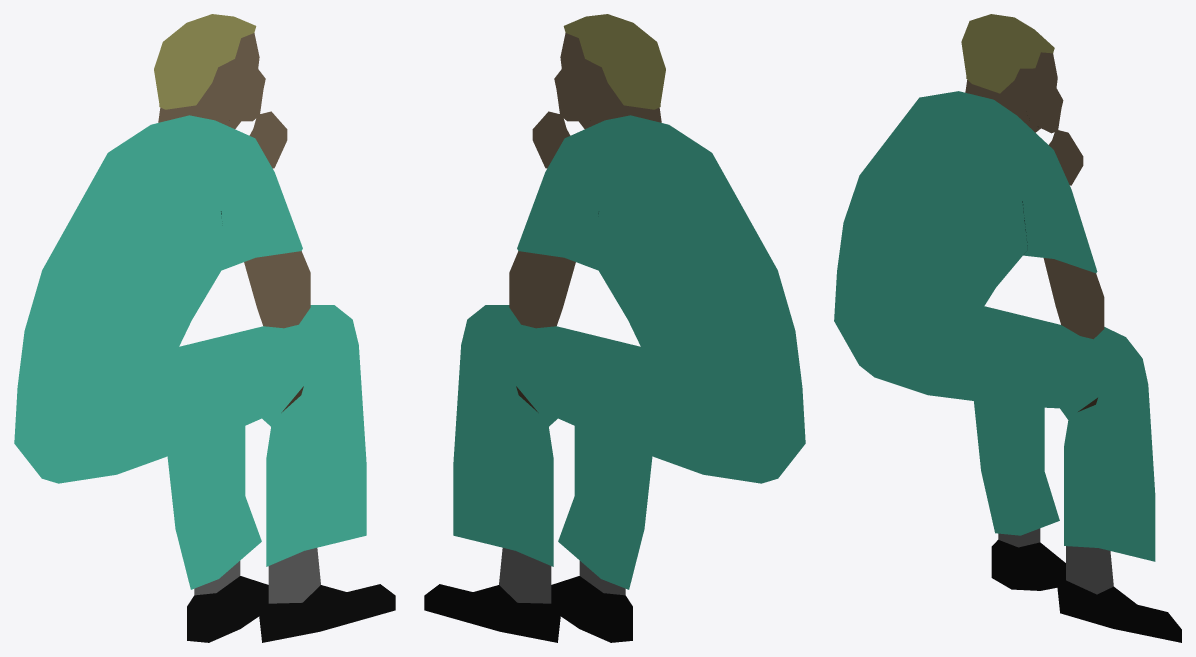
The model's file is 2D_Man_Sitting2-scrubs.fbx.
3 views of the same model, side by side, from view 1: azimuth 30°, elevation 25°; view 2: azimuth 150°, elevation 25°; view 3: azimuth 330°, elevation 25° (orthographic). The views are drawn at different scales.
Parts seen in each view (by area): view 1: Mesh01; view 2: Mesh01; view 3: Mesh01.
Part boxes in pixels (x1=…): Mesh01: x1=14, y1=14, x2=395, y2=642; Mesh01: x1=424, y1=14, x2=805, y2=642; Mesh01: x1=834, y1=14, x2=1181, y2=642.
Bounding box in the file's own units: 61.97 × 100 × 6.34e-13.
